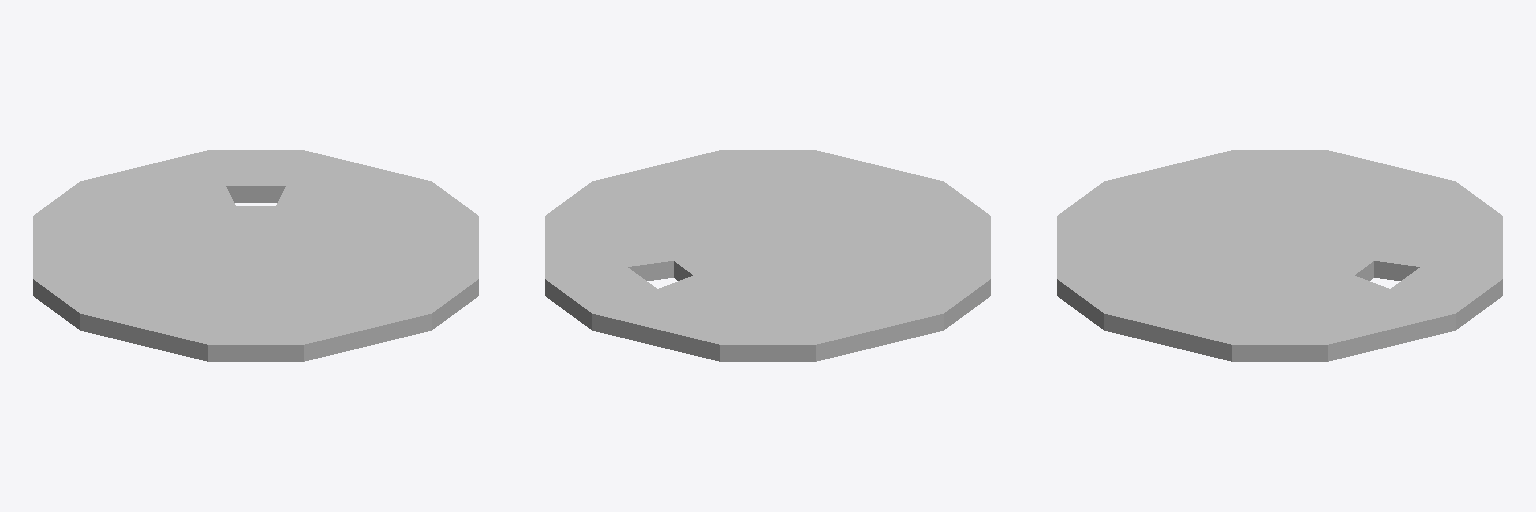
File: chip_1.obj
3 views of the same model, side by side, from view 1: azimuth 30°, elevation 25°; view 2: azimuth 150°, elevation 25°; view 3: azimuth 270°, elevation 25° (orthographic).
Parts seen in each view (by area): view 1: chip.001; view 2: chip.001; view 3: chip.001.
Boxes of the visible parts, box(x1,y1,x2,y2) form: chip.001: box(33, 150, 478, 361); chip.001: box(545, 150, 990, 361); chip.001: box(1057, 150, 1502, 361).
Bounding box in the file's own units: 8.66 × 0.3528 × 8.39.